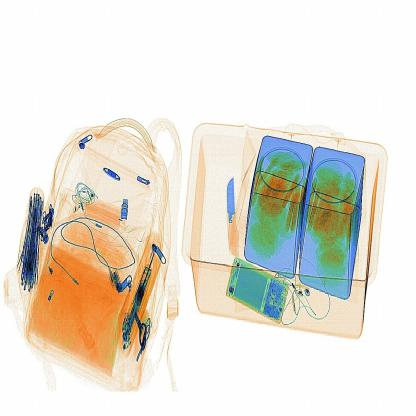wrench: (219, 172, 240, 258)
